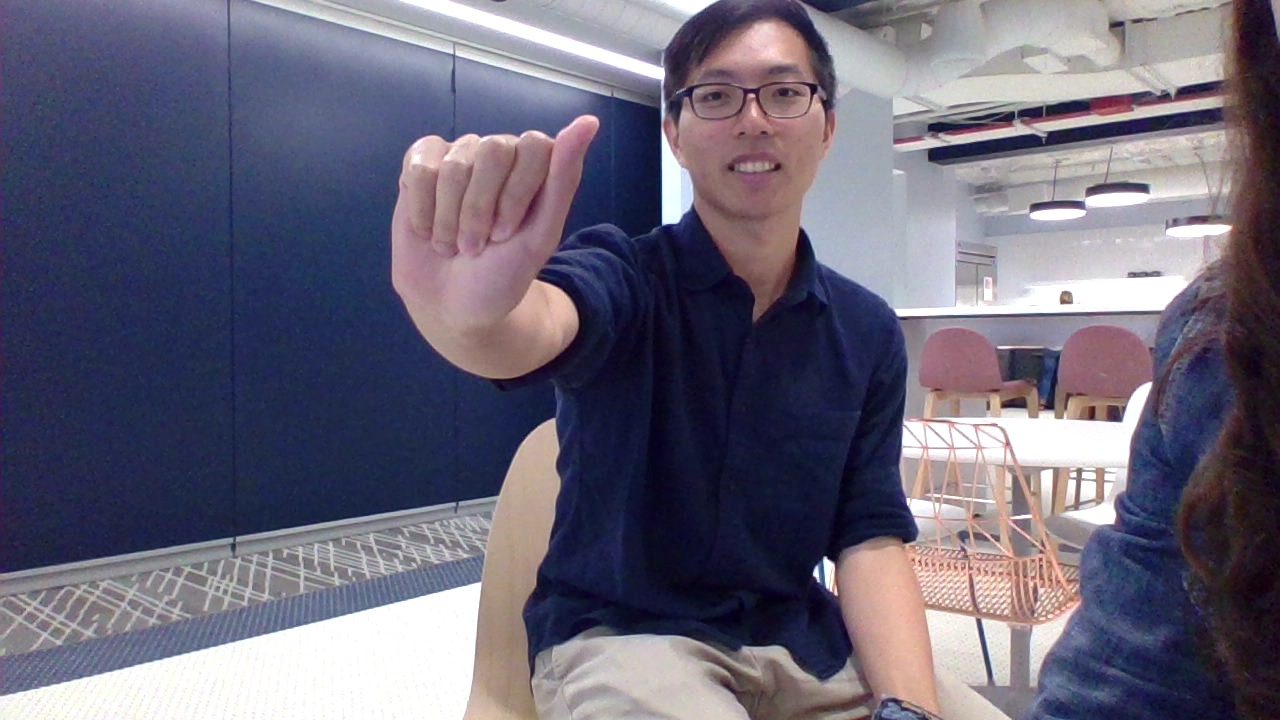a: (347, 93, 620, 343)
